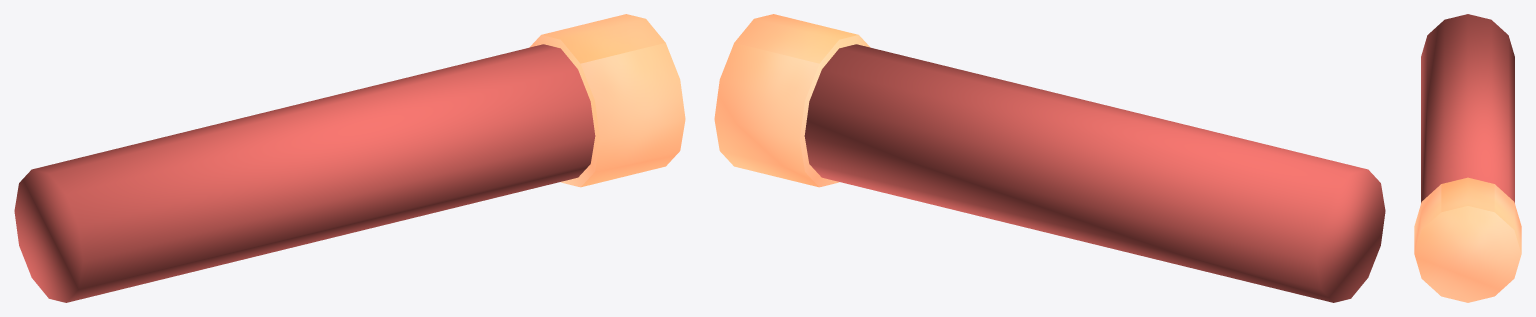
File: item_flare.glb
3 views of the same model, side by side, from view 1: azimuth 30°, elevation 25°; view 2: azimuth 150°, elevation 25°; view 3: azimuth 270°, elevation 25° (orthographic). The views are drawn at different scales.
Visible parts, largest first — view 1: FlareStick, StrikerCap; view 2: FlareStick, StrikerCap; view 3: FlareStick, StrikerCap.
Part boxes in pixels (x1,y1,x2,y2): FlareStick: (14,44,595,302); StrikerCap: (529,14,685,187); FlareStick: (804,44,1385,302); StrikerCap: (714,14,870,187); FlareStick: (1421,14,1514,202); StrikerCap: (1414,177,1521,302).
Size of the model in its own units: 0.28 by 0.064 by 0.064.
Materials: 2 (1 with a texture image).
